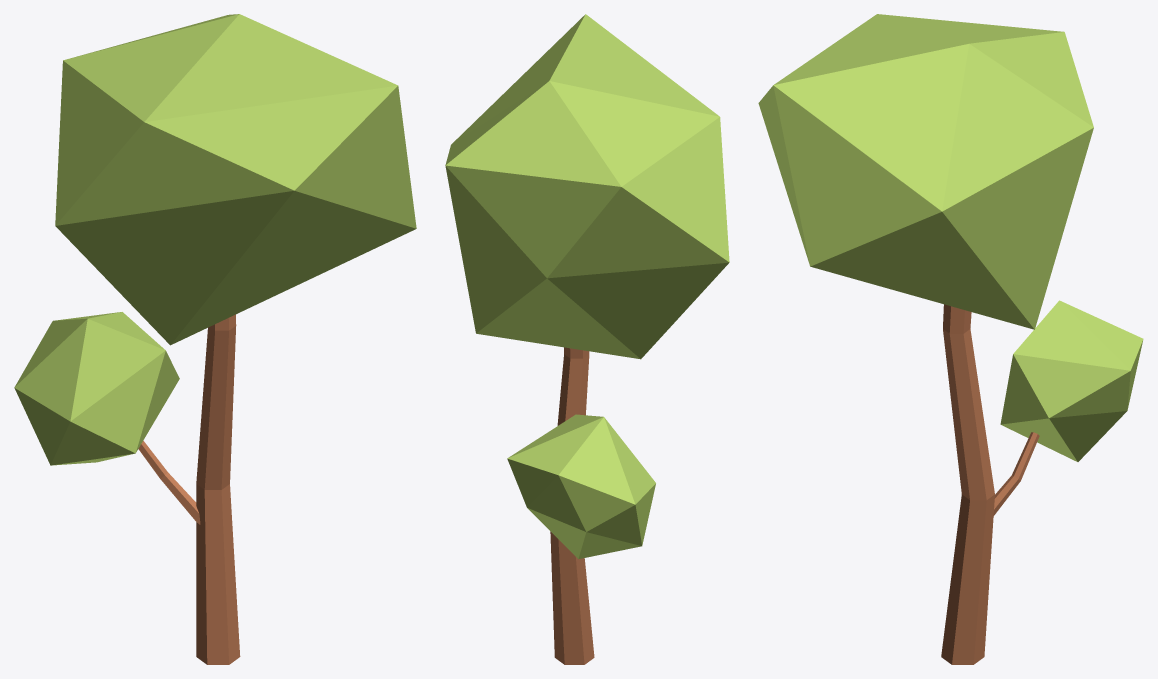
The model's file is Tree_2.fbx.
The picture shows the model from 3 angles, left to right: view 1: azimuth 30°, elevation 25°; view 2: azimuth 150°, elevation 25°; view 3: azimuth 270°, elevation 25°; orthographic projection. The views are drawn at different scales.
Parts seen in each view (by area): view 1: Icosphere.003; view 2: Icosphere.003; view 3: Icosphere.003.
Part boxes in pixels (x1,y1,x2,y2): Icosphere.003: [14, 14, 416, 664]; Icosphere.003: [445, 14, 729, 664]; Icosphere.003: [758, 14, 1143, 664].
Bounding box in the file's own units: 231 × 446 × 249.
